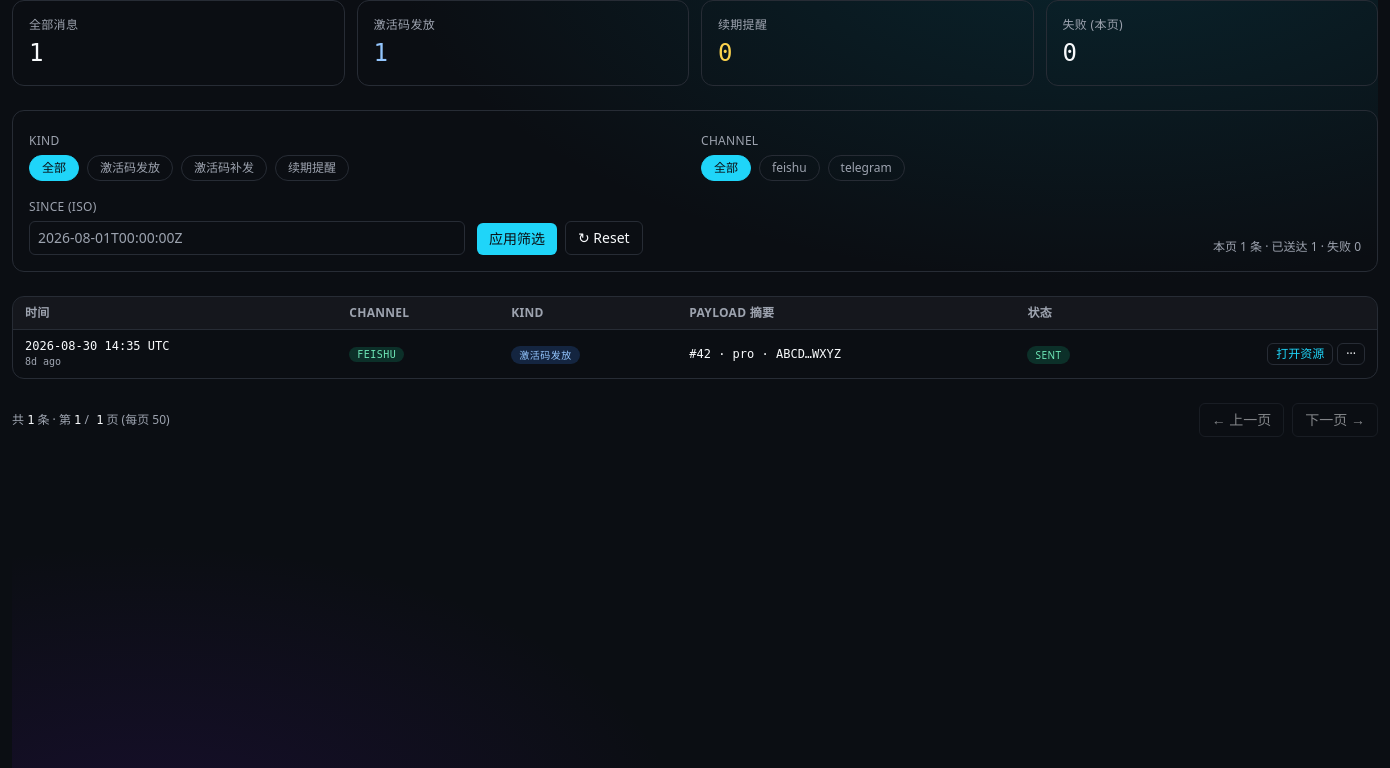
Test: MessagesPanel › clicking a row's ··· button expands the payload drawer; second click collapses
Step 1. Click the button with test id "messages-toggle-30" → (1351, 354), box [1337, 343, 1365, 365]
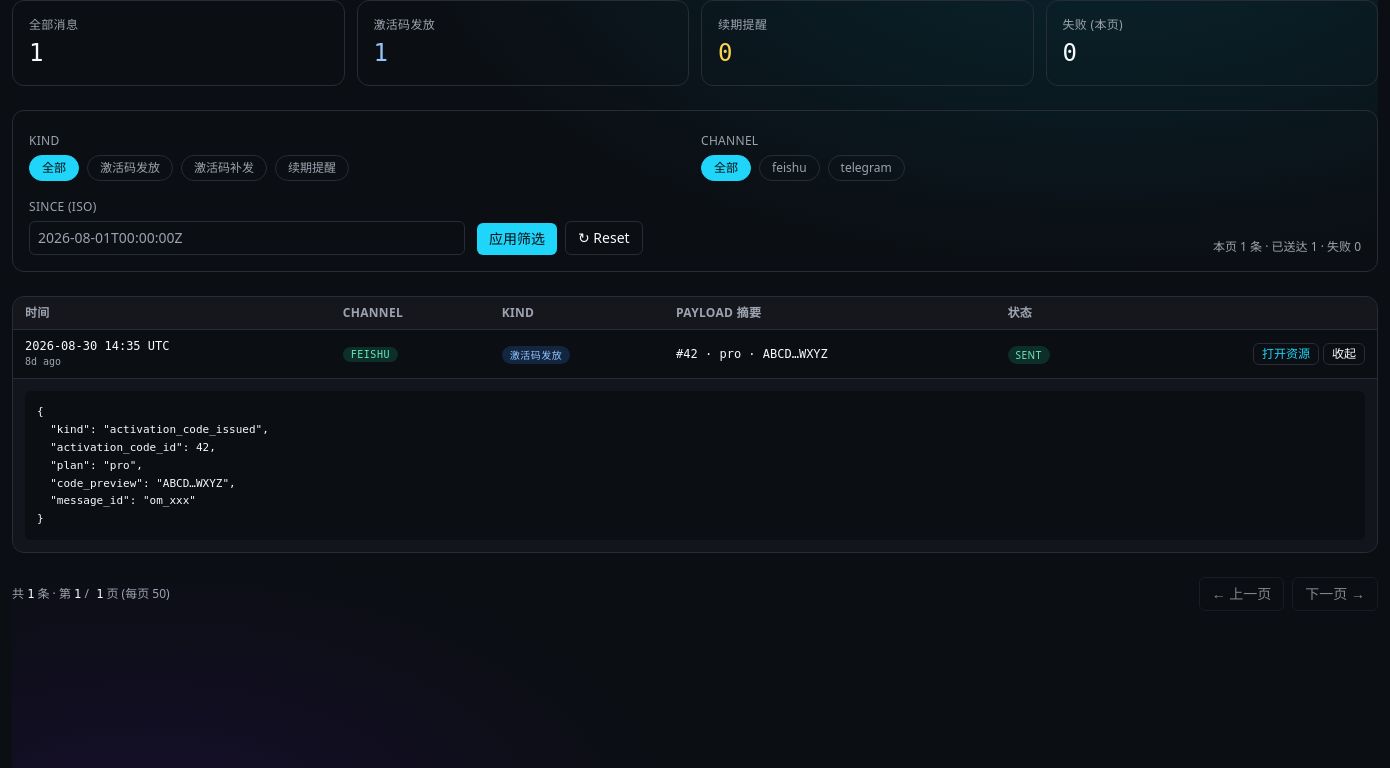
Check: the row with test id "messages-meta-30" is shown, box [13, 378, 1377, 552]
Check: the text with test id "messages-meta-pre-30" shows "\"message_id\": \"om_xxx\"", box [37, 405, 269, 525]
Step 2. Click the button with test id "messages-toggle-30" → (1344, 354), box [1323, 343, 1365, 365]
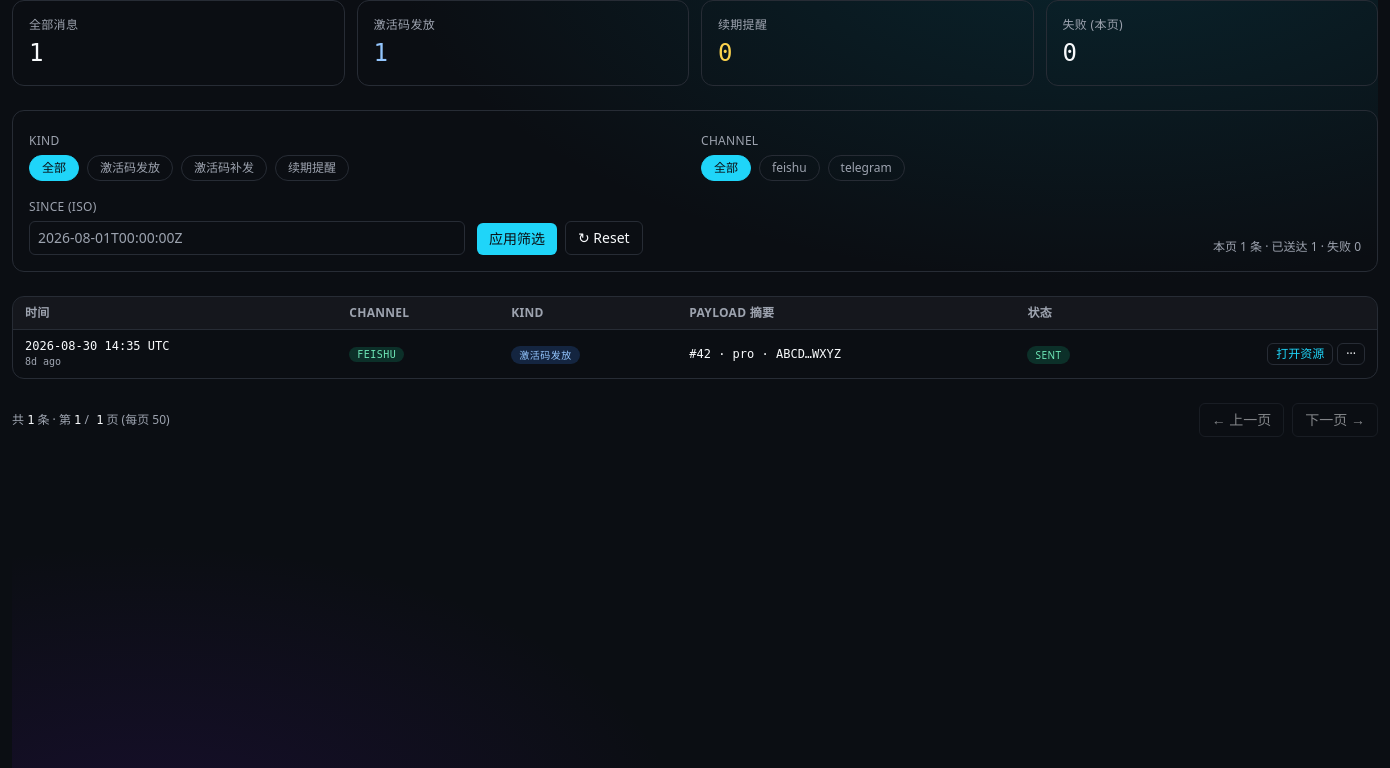
Check: the row with test id "messages-meta-30" is gone
